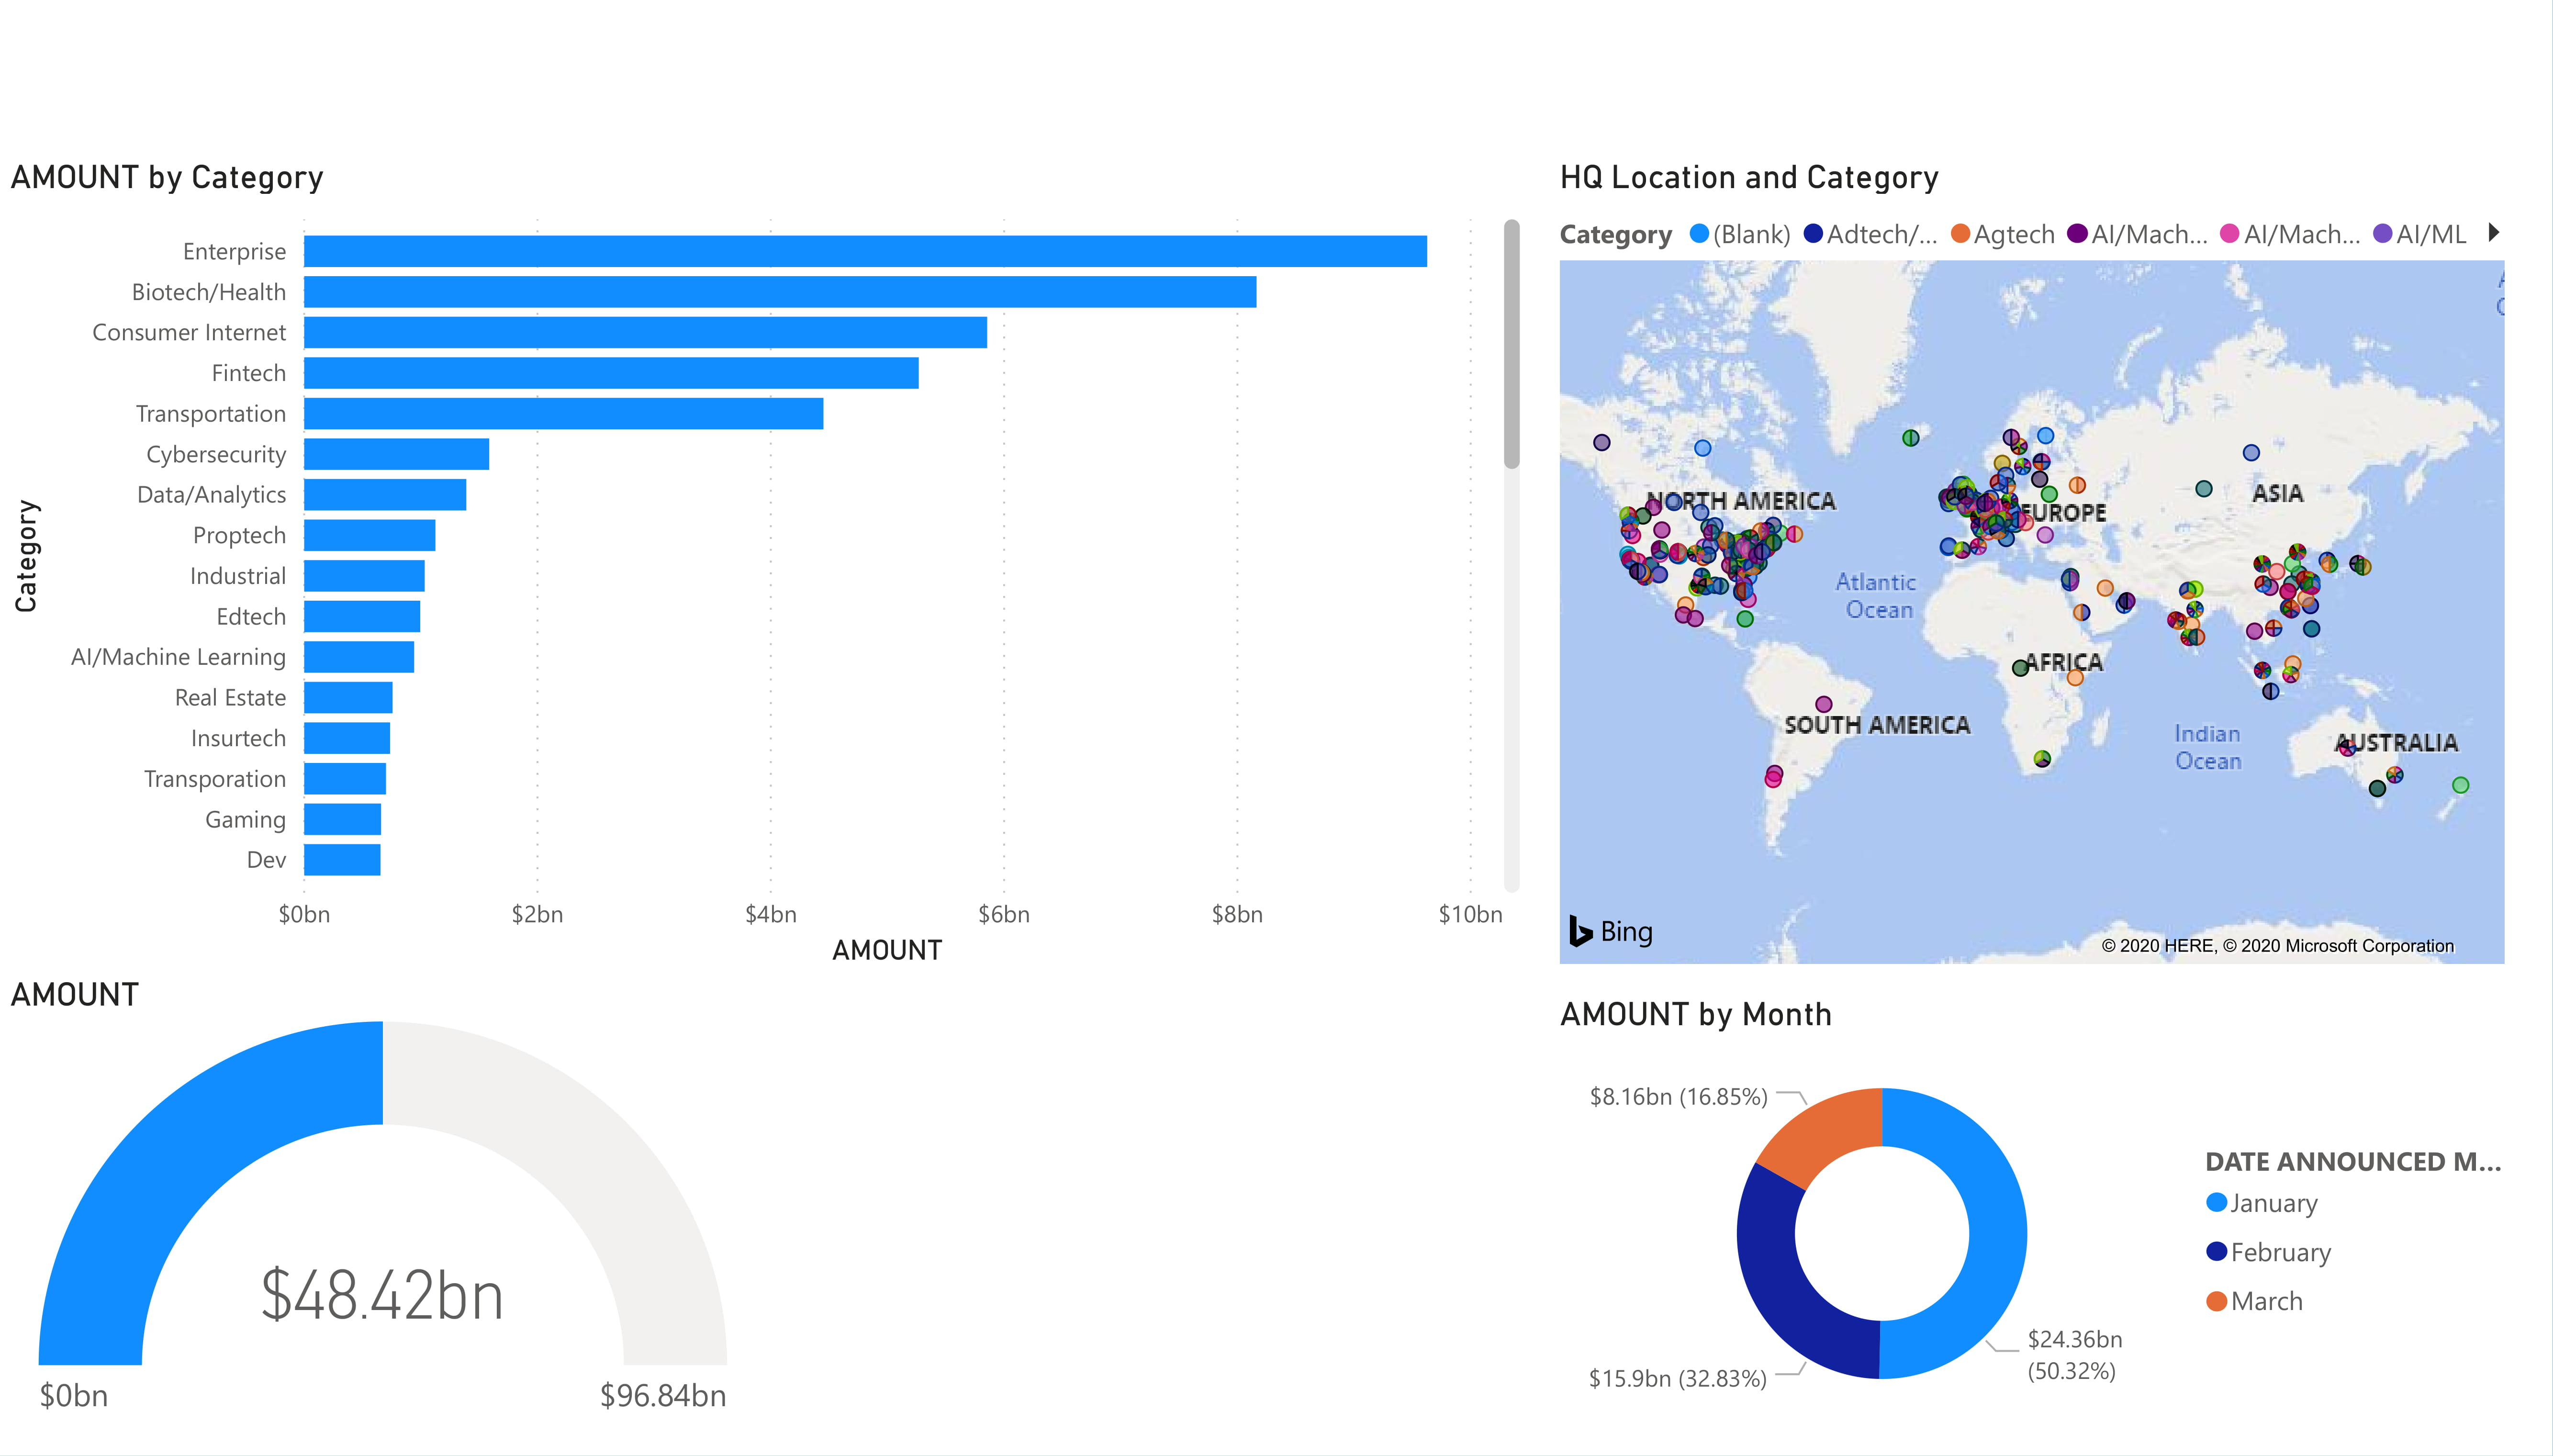

The page's visual inventory and layout, read from the dashboard file:
{"tool":"powerbi","page":{"name":"Page 1","canvas":[1280,720],"ordinal":0},"visuals":[{"type":"barChart","fields":{"Category":["Data.Category"],"Y":["Sum(Data.AMOUNT)"]},"box":[0,68.9,779.4,416.6],"z":0},{"type":"map","fields":{"Category":["Data.HQ Location"],"Series":["Data.Category"]},"box":[789.4,68.9,490.6,416.6],"z":1000},{"type":"gauge","fields":{"Y":["Sum(Data.AMOUNT)"]},"box":[0,485.4,389.7,235.2],"z":2000},{"type":"donutChart","fields":{"Category":["Data.DATE ANNOUNCED.Variation.Date Hierarchy.Month","Data.DATE ANNOUNCED.Variation.Date Hierarchy.Day"],"Y":["Sum(Data.AMOUNT)"]},"box":[789.5,495.5,490.5,225.1],"z":3000}]}

Visuals, with their boxes in screenshot pixels (x1, y1, x2, y2), scaled from the page's 1280x720 canvas onto the 2553x1456 screenshot:
barChart - Data.Category x Sum(Data.AMOUNT): BBox(0, 139, 1555, 982)
map - Data.HQ Location x Data.Category: BBox(1575, 139, 2553, 982)
gauge - Sum(Data.AMOUNT): BBox(0, 982, 777, 1456)
donutChart - Data.DATE ANNOUNCED.Variation.Date Hierarchy.Month x Data.DATE ANNOUNCED.Variation.Date Hierarchy.Day: BBox(1575, 1002, 2553, 1456)
